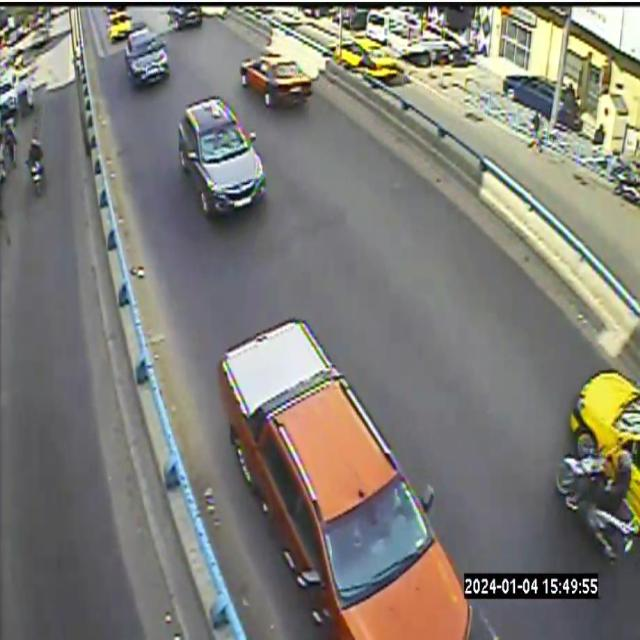car: (218, 319, 483, 639), (179, 95, 265, 217), (570, 370, 639, 517), (241, 51, 312, 107), (125, 25, 170, 85), (168, 5, 202, 30), (108, 10, 131, 41)
